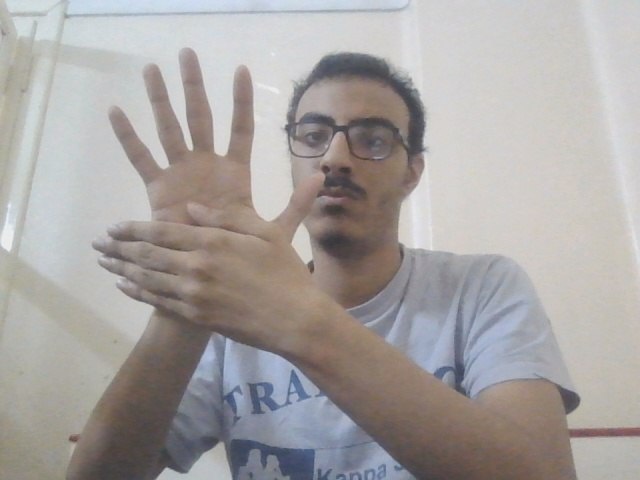Movie: (85, 42, 332, 373)
